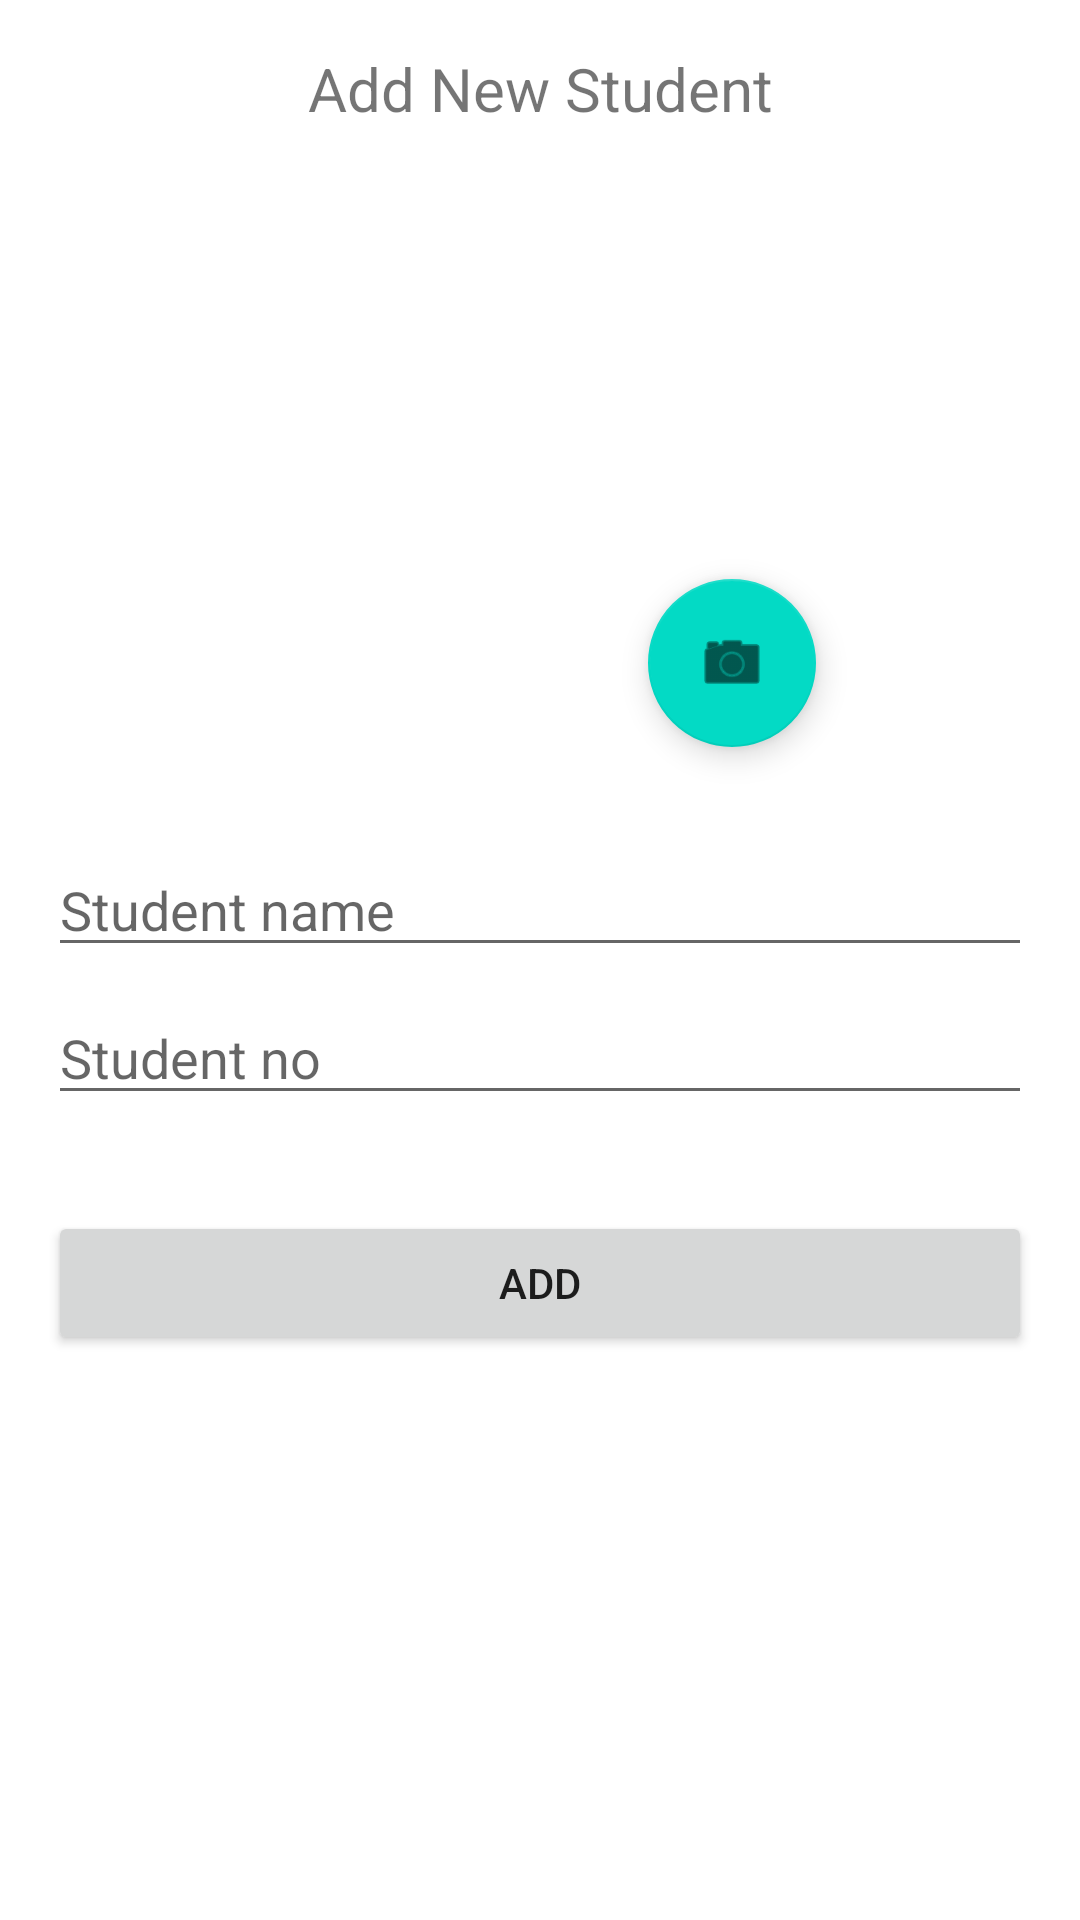

Icons on this 1080 × 1920 Android screen, each with its box as rect(x1, y1, x2, y2):
camera: rect(648, 579, 816, 747)
